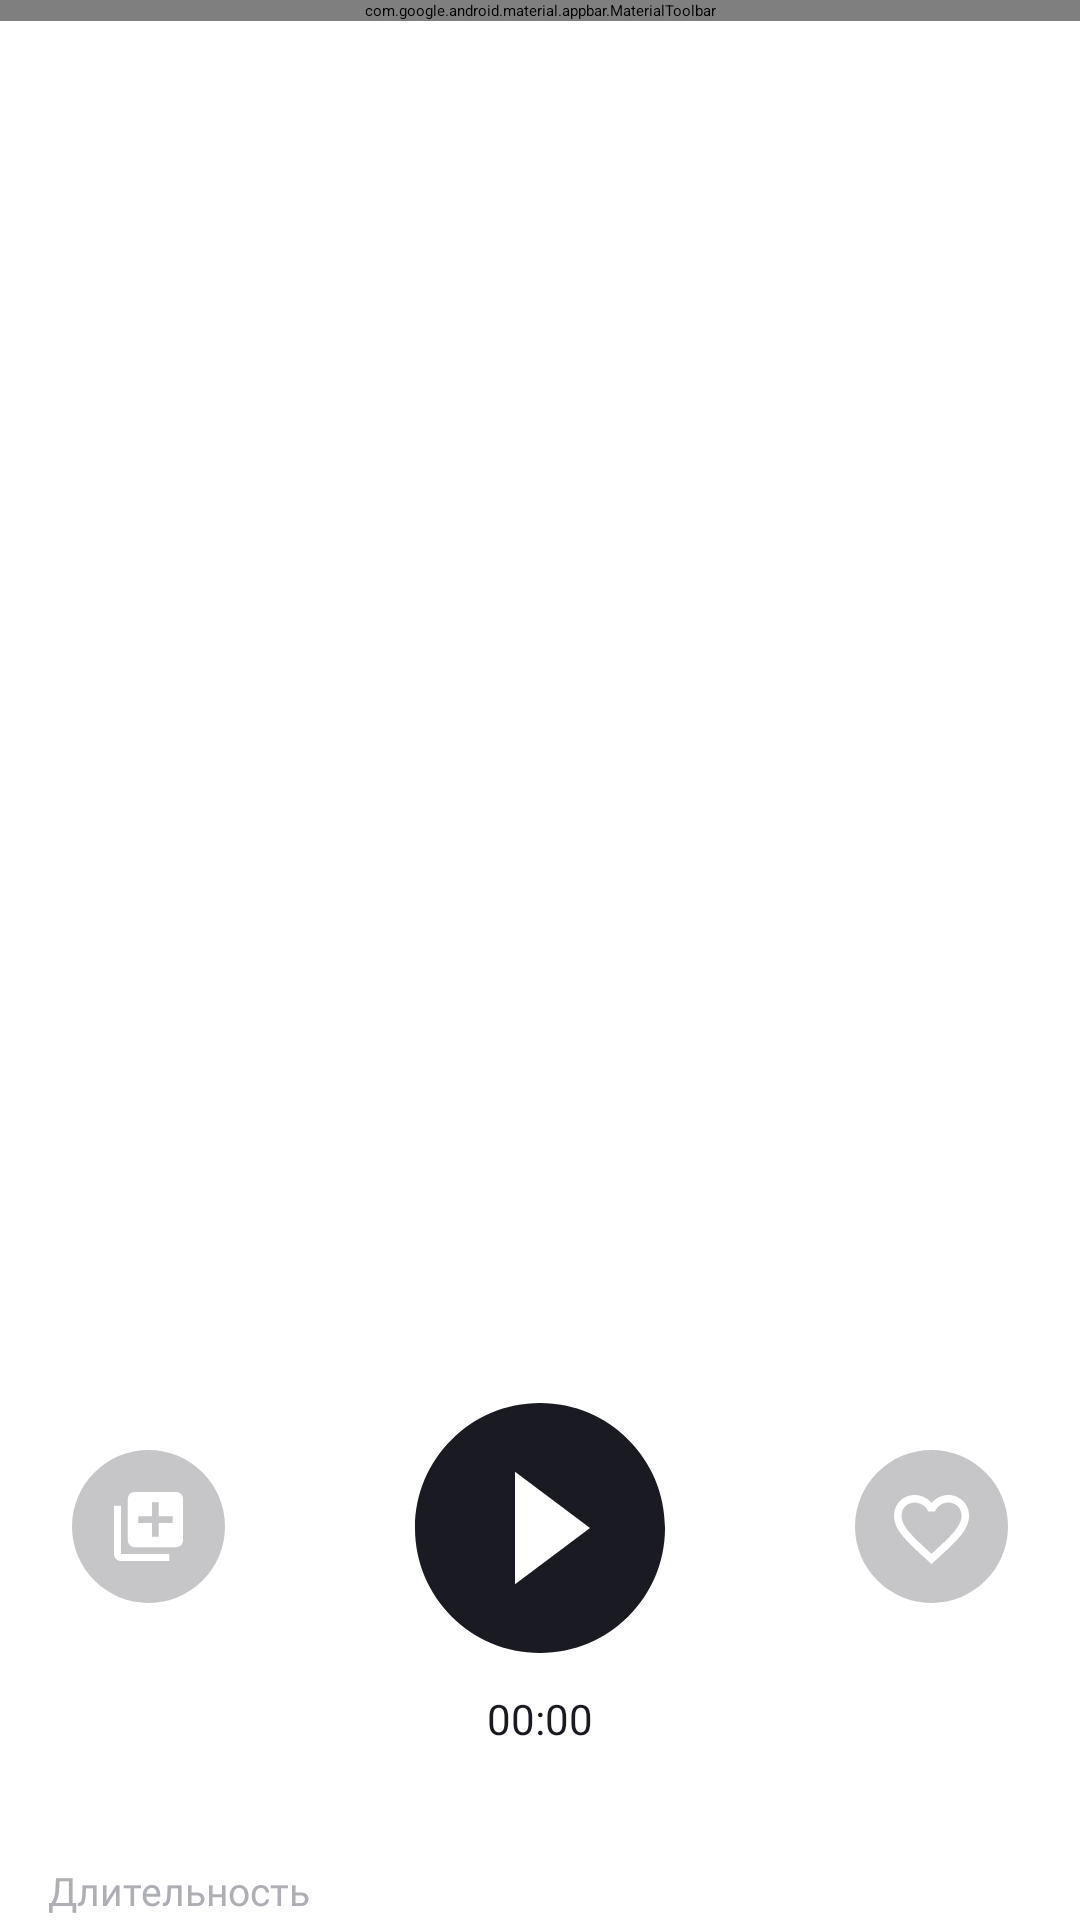

Icons on this 1080*1920 Android screen, each with the point to tap as point (x, y):
favourite: point (931, 1526)
play: point (540, 1528)
queue: point (148, 1526)
